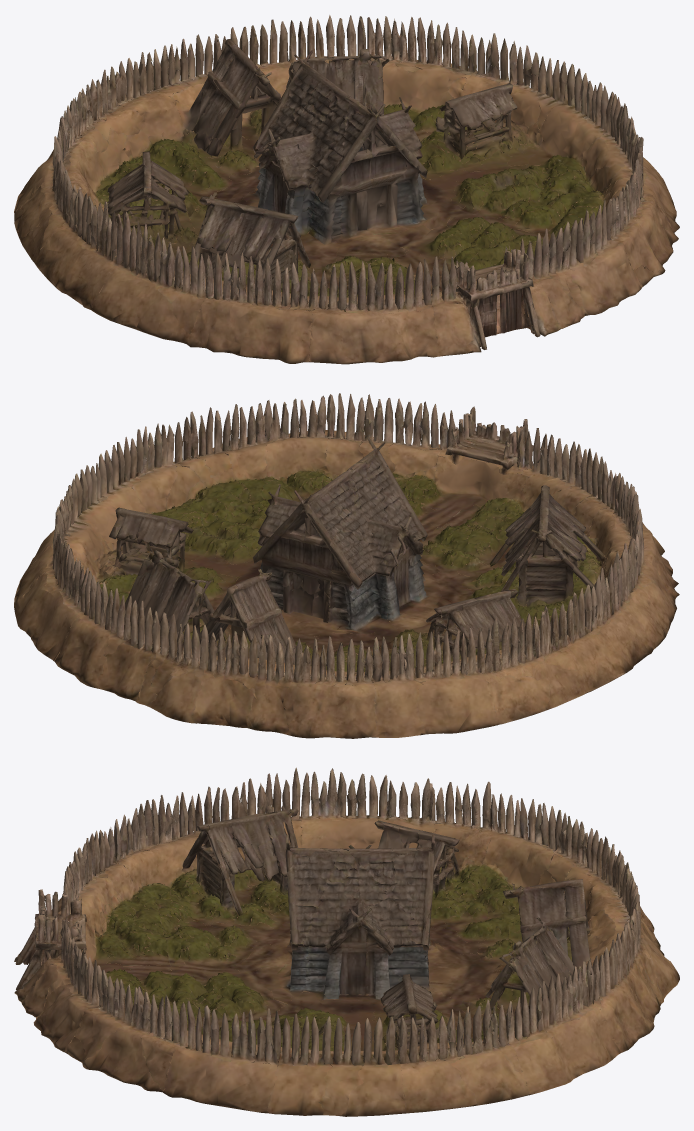
The model's file is Village_Teutons_S.glb.
The picture shows the model from 3 angles, top to bottom: view 1: azimuth 30°, elevation 25°; view 2: azimuth 150°, elevation 25°; view 3: azimuth 270°, elevation 25°; orthographic projection.
Visible parts, largest first — view 1: Mesh_0; view 2: Mesh_0; view 3: Mesh_0.
Part boxes in pixels (x1,y1,x2,y2): Mesh_0: (14,15,679,364); Mesh_0: (14,393,679,738); Mesh_0: (14,767,679,1116).
Size of the model in its own units: 1.88 by 0.4405 by 1.9.
1 material, 1 textured.
